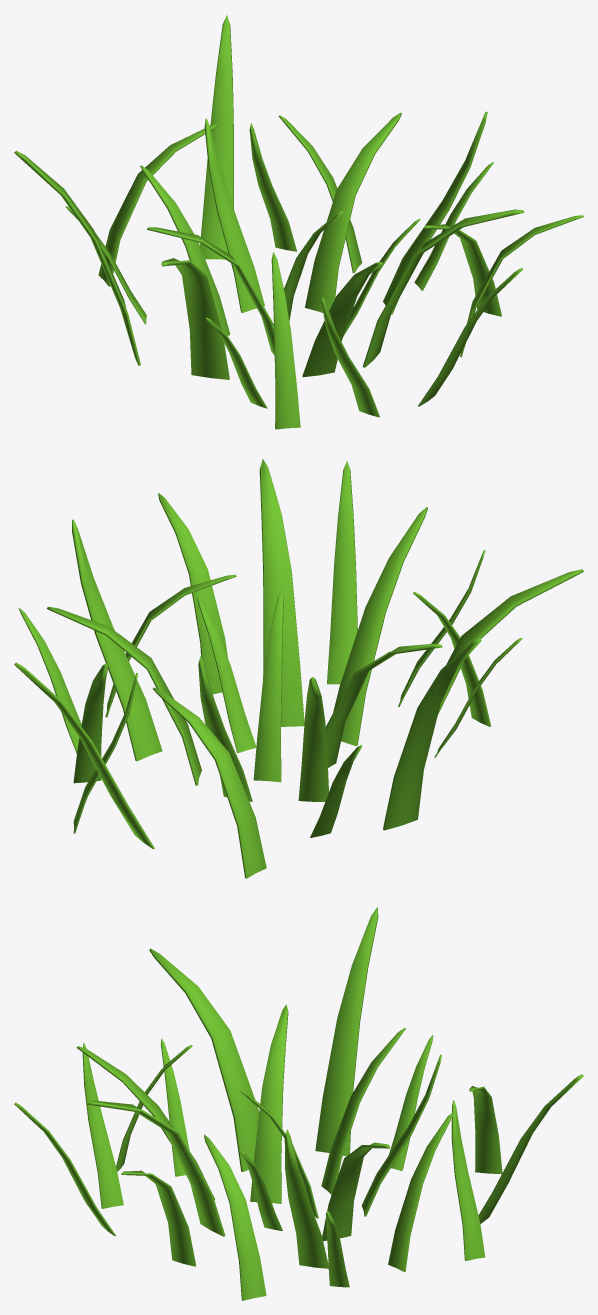
File: GrassTerrain2.fbx
3 renders of one model, top to bottom at view 1: azimuth 30°, elevation 25°; view 2: azimuth 150°, elevation 25°; view 3: azimuth 270°, elevation 25°, orthographic. The views are drawn at different scales.
Parts seen in each view (by area): view 1: Grass; view 2: Grass; view 3: Grass.
Boxes of the visible parts, x1=… form: Grass: x1=14, y1=15, x2=583, y2=429; Grass: x1=14, y1=459, x2=583, y2=878; Grass: x1=14, y1=907, x2=583, y2=1300.
Bounding box in the file's own units: 83.93 × 38.2 × 96.72.
